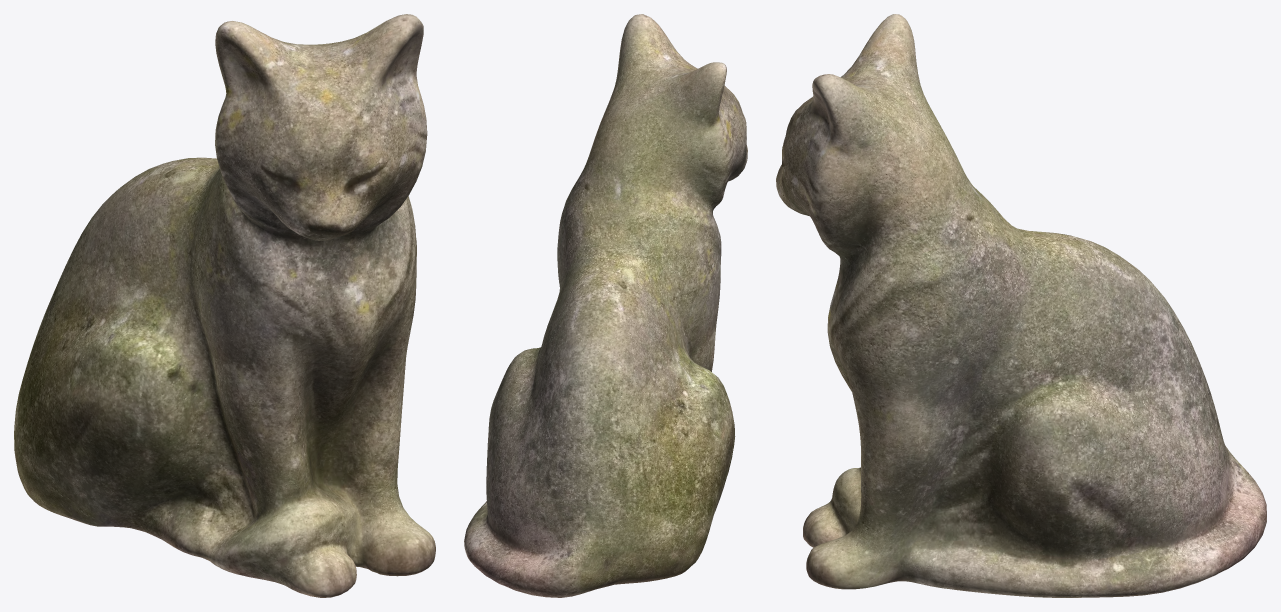
Rendered from concrete_cat_statue.glb.
3 views of the same model, side by side, from view 1: azimuth 30°, elevation 25°; view 2: azimuth 150°, elevation 25°; view 3: azimuth 270°, elevation 25° (orthographic). The views are drawn at different scales.
Parts seen in each view (by area): view 1: concrete_cat_statue; view 2: concrete_cat_statue; view 3: concrete_cat_statue.
Boxes of the visible parts, x1,y1,x2,y2 form: concrete_cat_statue: (14,14,435,597); concrete_cat_statue: (464,14,747,597); concrete_cat_statue: (776,14,1266,597).
Bounding box in the file's own units: 0.153 × 0.283 × 0.25.
1 material, 1 textured.
